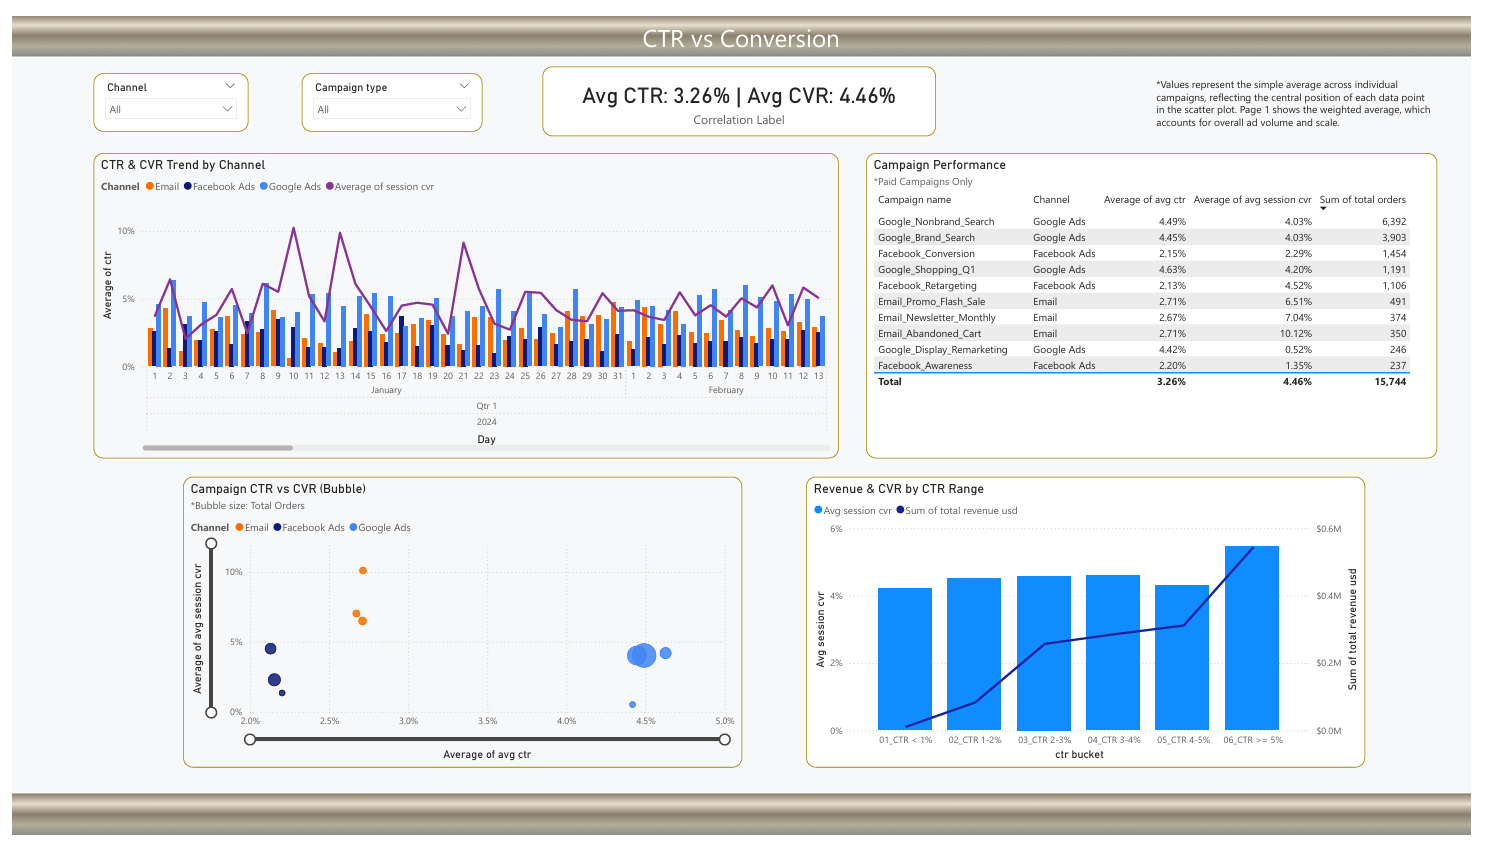

The dashboard page shown, as its layout file describes it:
{"tool":"powerbi","page":{"name":"CTR vs Conversion","canvas":[1920,1080],"ordinal":1},"visuals":[{"type":"scatterChart","title":"Campaign CTR vs CVR (Bubble)","fields":{"Category":["v_campaign_ctr_cvr_scatter.campaign_name"],"Series":["v_campaign_ctr_cvr_scatter.channel"],"X":["Avg(v_campaign_ctr_cvr_scatter.avg_ctr)"],"Y":["Avg(v_campaign_ctr_cvr_scatter.avg_session_cvr)"],"Size":["Sum(v_campaign_ctr_cvr_scatter.total_orders)"]},"box":[225.2,606.1,735.5,382.8],"z":0},{"type":"lineClusteredColumnComboChart","title":"CTR & CVR Trend by Channel","fields":{"Y":["Avg(v_campaign_daily_ctr_cvr.ctr)"],"Y2":["Avg(v_campaign_daily_ctr_cvr.session_cvr)"],"Series":["v_campaign_daily_ctr_cvr.channel"],"Category":["v_campaign_daily_ctr_cvr.date.Variation.Date Hierarchy.Year","v_campaign_daily_ctr_cvr.date.Variation.Date Hierarchy.Quarter","v_campaign_daily_ctr_cvr.date.Variation.Date Hierarchy.Month","v_campaign_daily_ctr_cvr.date.Variation.Date Hierarchy.Day"]},"box":[107,180.1,981.3,401.5],"z":1000},{"type":"textbox","box":[724.3,0,471,65.7],"z":2000},{"type":"card","fields":{"Values":["_measure.Correlation Label"]},"box":[698,65.7,517.9,91.9],"z":3000},{"type":"tableEx","title":"Campaign Performance","fields":{"Values":["v_campaign_ctr_cvr_scatter.campaign_name","v_campaign_ctr_cvr_scatter.channel","Avg(v_campaign_ctr_cvr_scatter.avg_ctr)","Avg(v_campaign_ctr_cvr_scatter.avg_session_cvr)","Sum(v_campaign_ctr_cvr_scatter.total_orders)"]},"box":[1123.9,180.1,752.4,401.5],"z":4000},{"type":"slicer","fields":{"Values":["dim_channel.channel"]},"box":[107,75.1,204.5,76.9],"z":5000},{"type":"slicer","fields":{"Values":["dim_campaign_type.campaign_type"]},"box":[380.9,75.1,238.3,76.9],"z":6000},{"type":"textbox","box":[1501.1,75.1,375.3,122],"z":7000},{"type":"lineStackedColumnComboChart","title":"Revenue & CVR by CTR Range","fields":{"Category":["v_ctr_bucket_analysis.ctr_bucket"],"Y2":["Sum(v_ctr_bucket_analysis.total_revenue_usd)"],"Y":["Avg(v_ctr_bucket_analysis.avg_session_cvr)"]},"box":[1045.1,606.1,735.5,382.8],"z":8000}]}

Visuals, with their boxes in screenshot pixels (x1, y1, x2, y2), scaled from the page's 1920x1080 canvas onto the 1487x851 screenshot:
"Campaign CTR vs CVR (Bubble)" scatterChart: {"x1": 174, "y1": 478, "x2": 744, "y2": 779}
"CTR & CVR Trend by Channel" lineClusteredColumnComboChart: {"x1": 83, "y1": 142, "x2": 843, "y2": 458}
textbox: {"x1": 561, "y1": 0, "x2": 926, "y2": 52}
card - _measure.Correlation Label: {"x1": 541, "y1": 52, "x2": 942, "y2": 124}
"Campaign Performance" tableEx: {"x1": 870, "y1": 142, "x2": 1453, "y2": 458}
slicer - dim_channel.channel: {"x1": 83, "y1": 59, "x2": 241, "y2": 120}
slicer - dim_campaign_type.campaign_type: {"x1": 295, "y1": 59, "x2": 480, "y2": 120}
textbox: {"x1": 1163, "y1": 59, "x2": 1453, "y2": 155}
"Revenue & CVR by CTR Range" lineStackedColumnComboChart: {"x1": 809, "y1": 478, "x2": 1379, "y2": 779}
